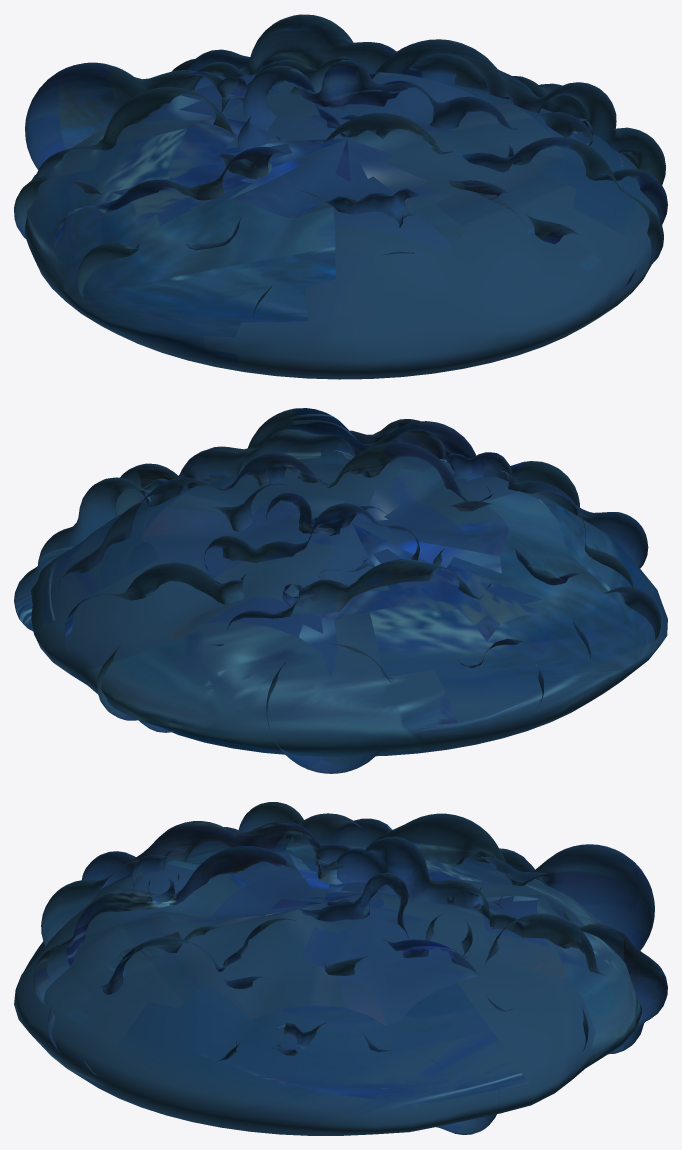
Rendered from maganeselight.gltf.
The picture shows the model from 3 angles, top to bottom: view 1: azimuth 30°, elevation 25°; view 2: azimuth 150°, elevation 25°; view 3: azimuth 270°, elevation 25°; orthographic projection. The views are drawn at different scales.
Visible parts, largest first — view 1: Sphere; view 2: Sphere; view 3: Sphere.
Part boxes in pixels (x1,y1,x2,y2): Sphere: [14, 14, 667, 379]; Sphere: [14, 408, 667, 773]; Sphere: [14, 802, 667, 1135].
Size of the model in its own units: 2.1 by 0.7348 by 2.12.
Materials: 1 (1 with a texture image).
